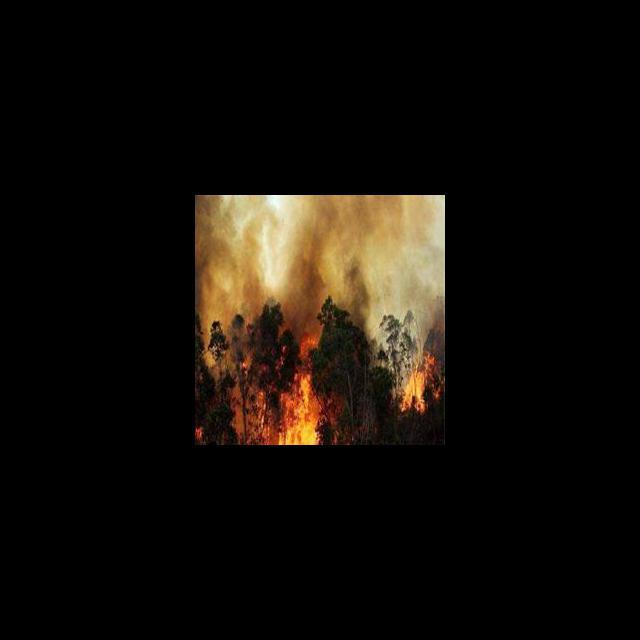Fire: (276, 332, 336, 445), (396, 351, 443, 411)
